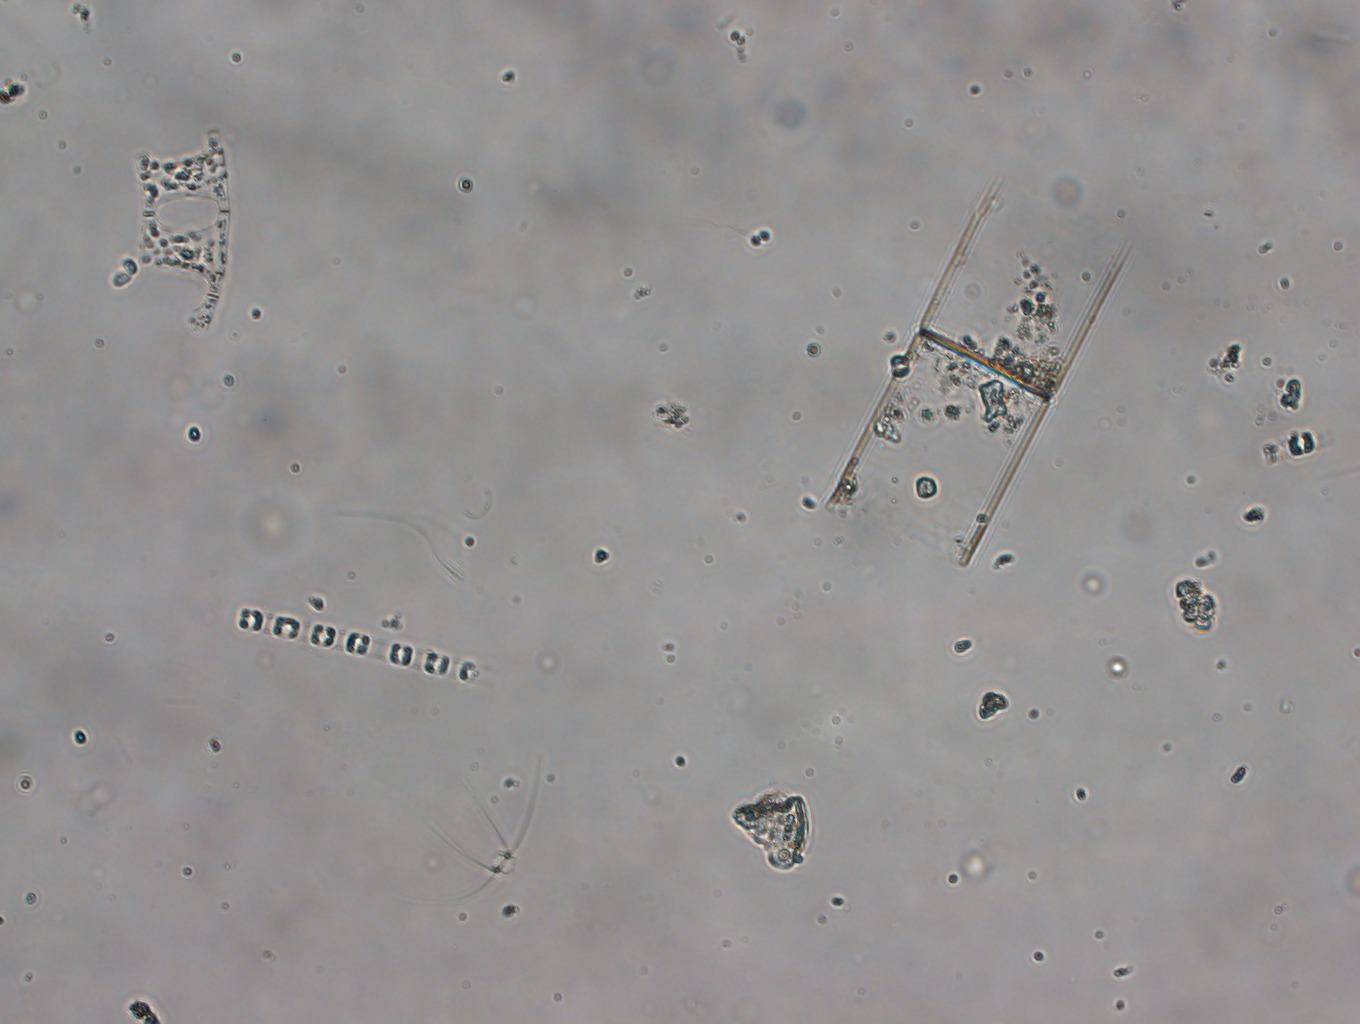eucampia: (110, 123, 231, 333)
guinardia flaccida: (826, 175, 1135, 566)
skeletonema: (234, 606, 481, 685)
